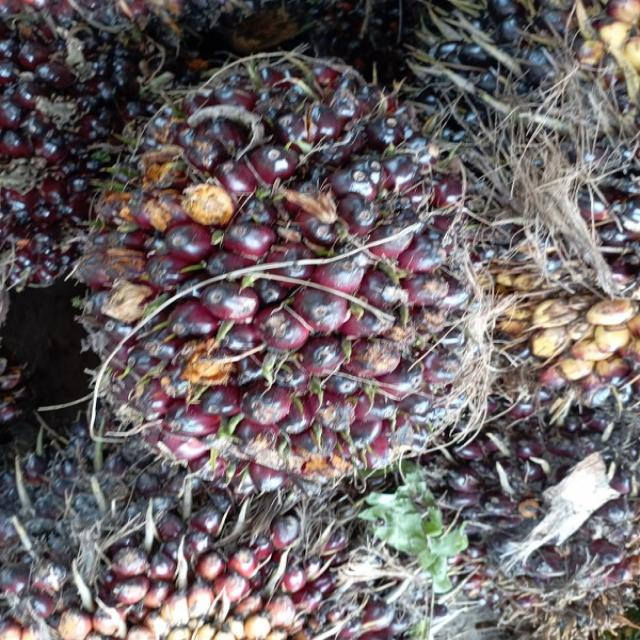fraksi 1: (84, 59, 506, 472)
